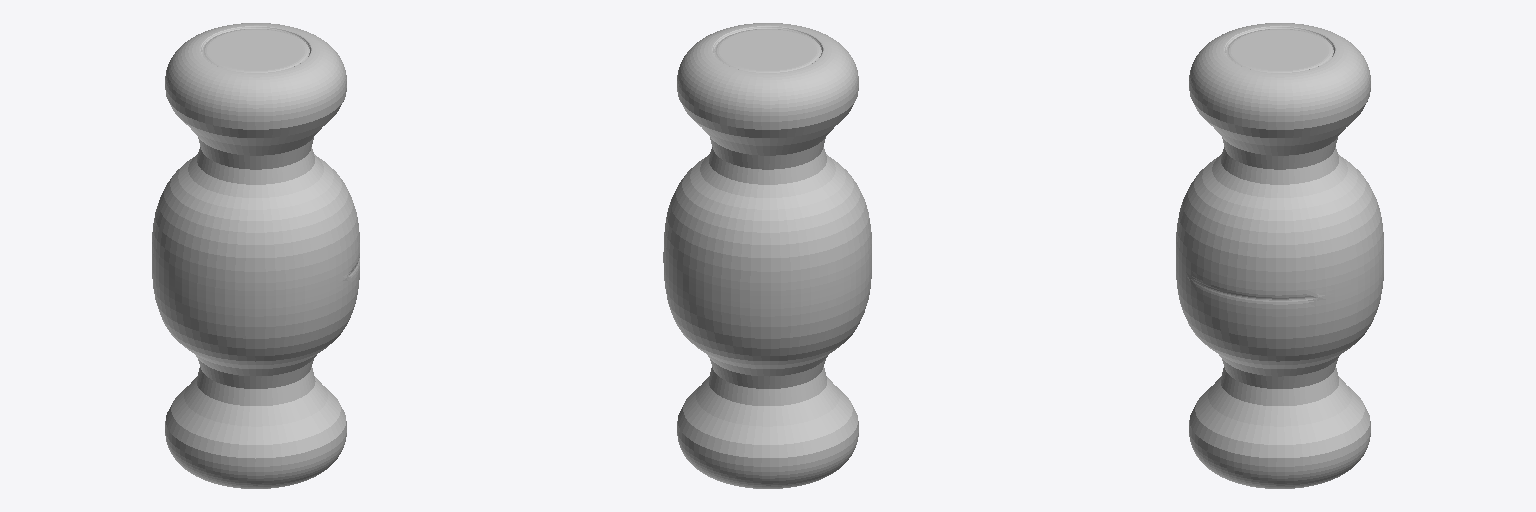
Rendered from LEFTGRIP.obj.
The picture shows the model from 3 angles: view 1: azimuth 30°, elevation 25°; view 2: azimuth 150°, elevation 25°; view 3: azimuth 270°, elevation 25°; orthographic projection.
Visible parts, largest first — view 1: Cylinder.032_Cylinder; view 2: Cylinder.032_Cylinder; view 3: Cylinder.032_Cylinder.
Part boxes in pixels (bbox=[...]): Cylinder.032_Cylinder: bbox=[152, 23, 359, 488]; Cylinder.032_Cylinder: bbox=[663, 23, 871, 488]; Cylinder.032_Cylinder: bbox=[1176, 23, 1383, 488].
Size of the model in its own units: 5.44 by 11.86 by 5.44.